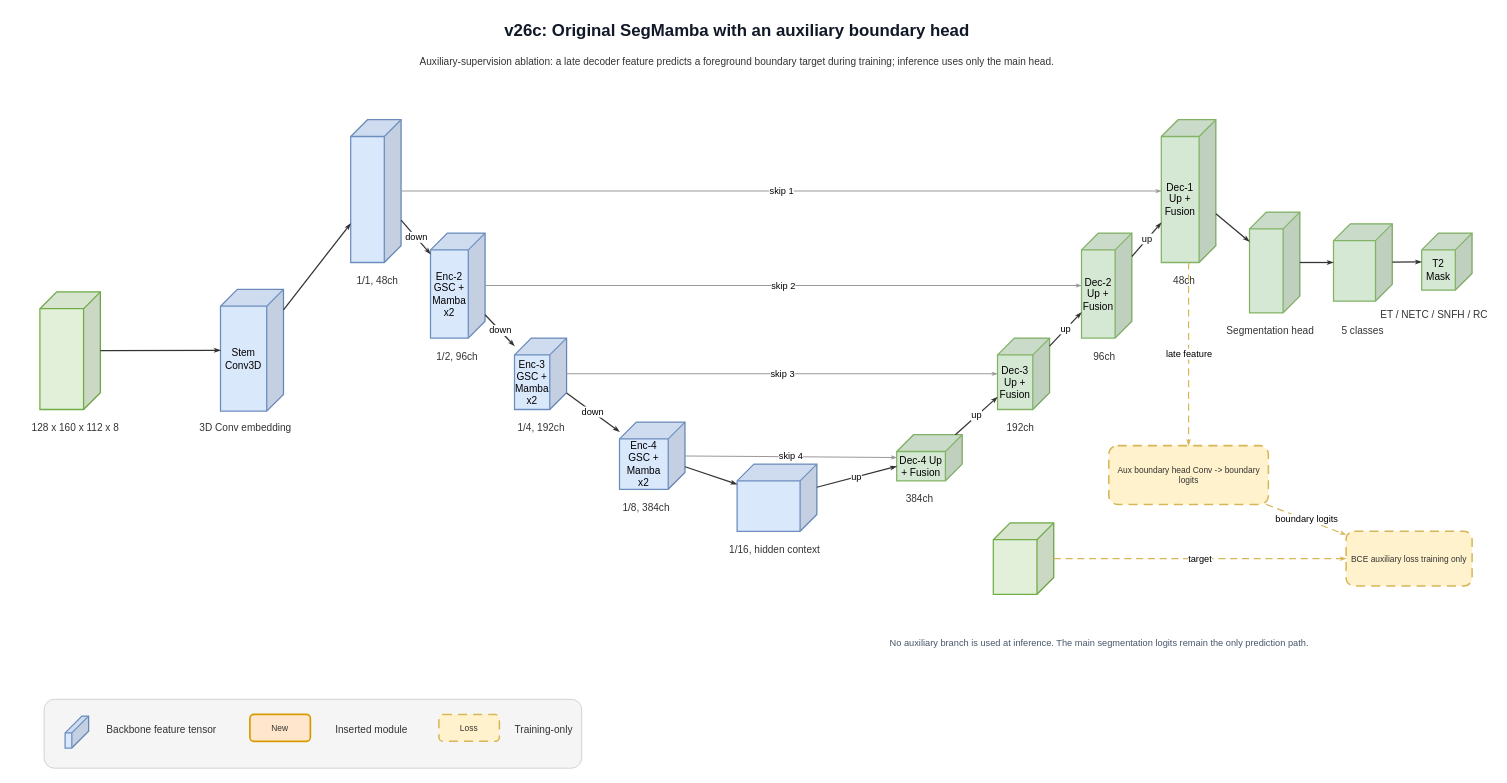
The diagram is 1507 pixels wide and 783 high, and some of its shapes have lost their labels. The shapes that lost their labels are listed below. From the top down, each one's centre as x and y in pixels, then its label:
point 375,191: Enc-1 GSC + Mamba x2
point 1274,262: 1x1x1 Conv
point 1362,262: Logits Softmax
point 70,350: Paired MRI T1+T2, 8ch
point 776,497: Mamba / SSM bottleneck spatial scan
point 1023,558: GT-derived boundary target
